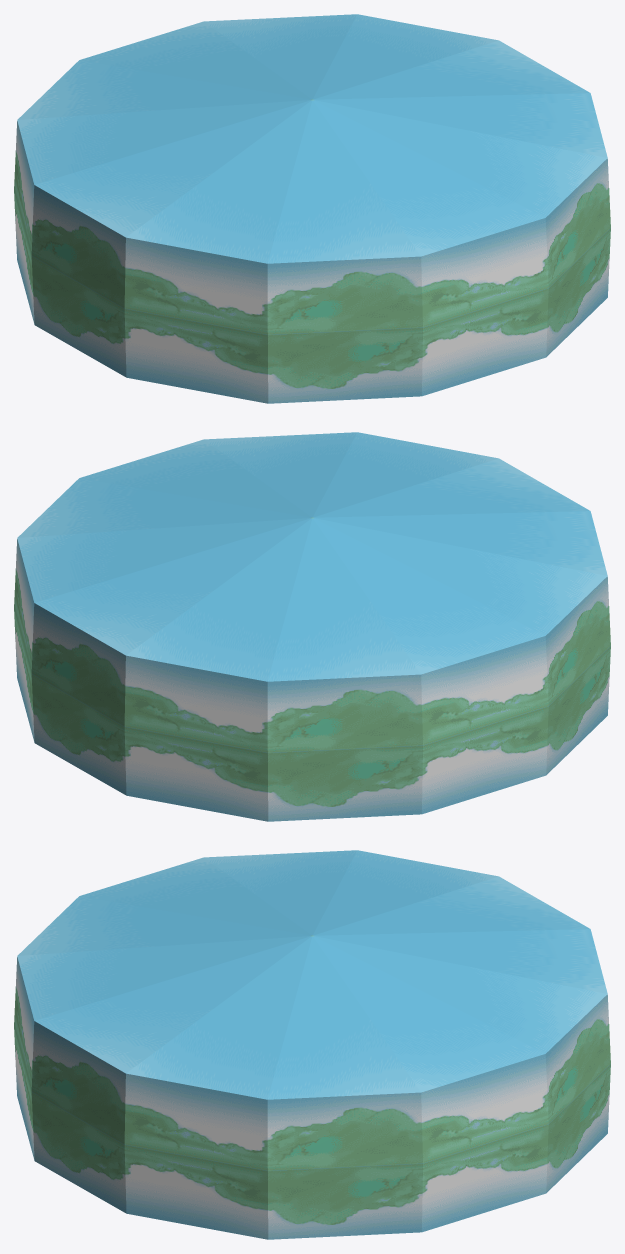
File: skybox.obj
3 views of the same model, one above another, from view 1: azimuth 30°, elevation 25°; view 2: azimuth 150°, elevation 25°; view 3: azimuth 270°, elevation 25° (orthographic).
Visible parts, largest first — view 1: sky_g_0_p_2, sky_g_0_p_3, sky_g_0_p_1, sky_g_0_p_0; view 2: sky_g_0_p_2, sky_g_0_p_3, sky_g_0_p_0, sky_g_0_p_1; view 3: sky_g_0_p_2, sky_g_0_p_3, sky_g_0_p_0, sky_g_0_p_1.
Boxes of the visible parts, left/top/right/bottom form: sky_g_0_p_2: left=14, top=99, right=610, bottom=334; sky_g_0_p_3: left=17, top=14, right=607, bottom=157; sky_g_0_p_1: left=31, top=228, right=610, bottom=403; sky_g_0_p_0: left=14, top=191, right=34, bottom=324; sky_g_0_p_2: left=14, top=432, right=610, bottom=752; sky_g_0_p_3: left=17, top=439, right=420, bottom=681; sky_g_0_p_0: left=14, top=609, right=548, bottom=821; sky_g_0_p_1: left=546, top=646, right=610, bottom=774; sky_g_0_p_2: left=14, top=850, right=610, bottom=1170; sky_g_0_p_3: left=126, top=876, right=607, bottom=1099; sky_g_0_p_0: left=268, top=1064, right=610, bottom=1239; sky_g_0_p_1: left=14, top=1027, right=268, bottom=1239.
Bounding box in the file's own units: 24174 × 9756 × 24174.
